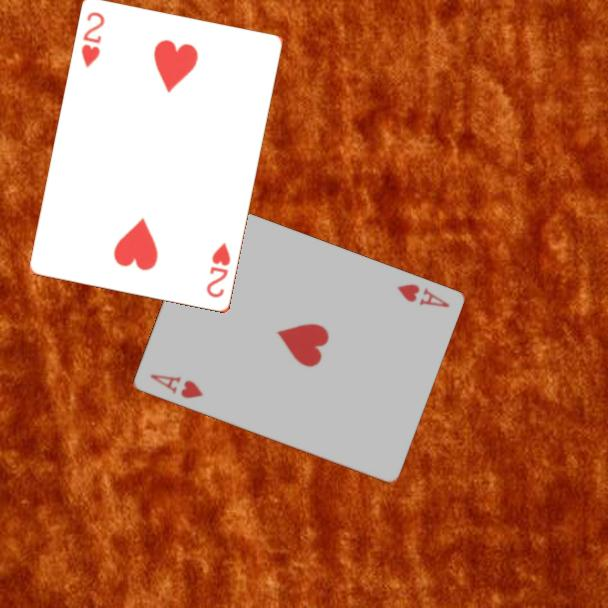h01: (146, 371, 206, 402), (393, 280, 452, 311)
h02: (203, 239, 234, 301), (78, 9, 108, 71)
